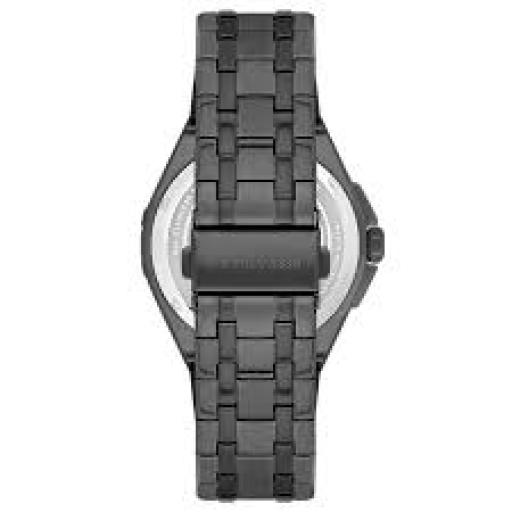KolSaati: (130, 0, 390, 512)
